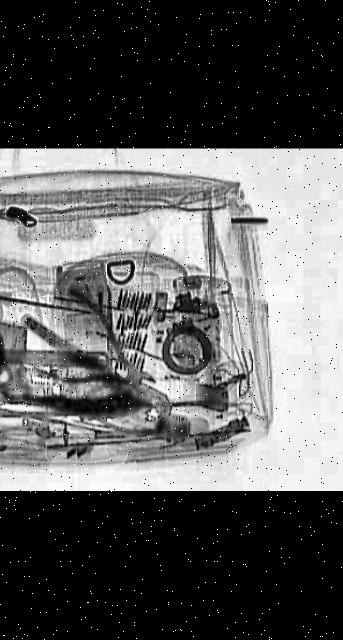Pliers: (0, 316, 208, 445), (0, 287, 200, 414)
